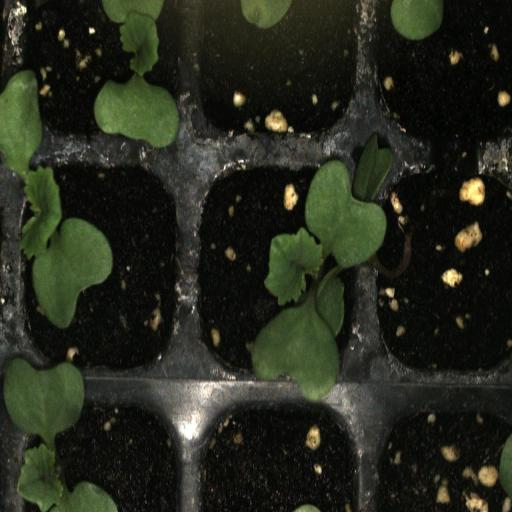Folha: (208, 0, 331, 33), (390, 0, 443, 41)
Germinacao: (186, 143, 360, 397), (9, 152, 186, 384), (347, 144, 512, 392), (9, 0, 189, 149), (8, 385, 185, 512)
